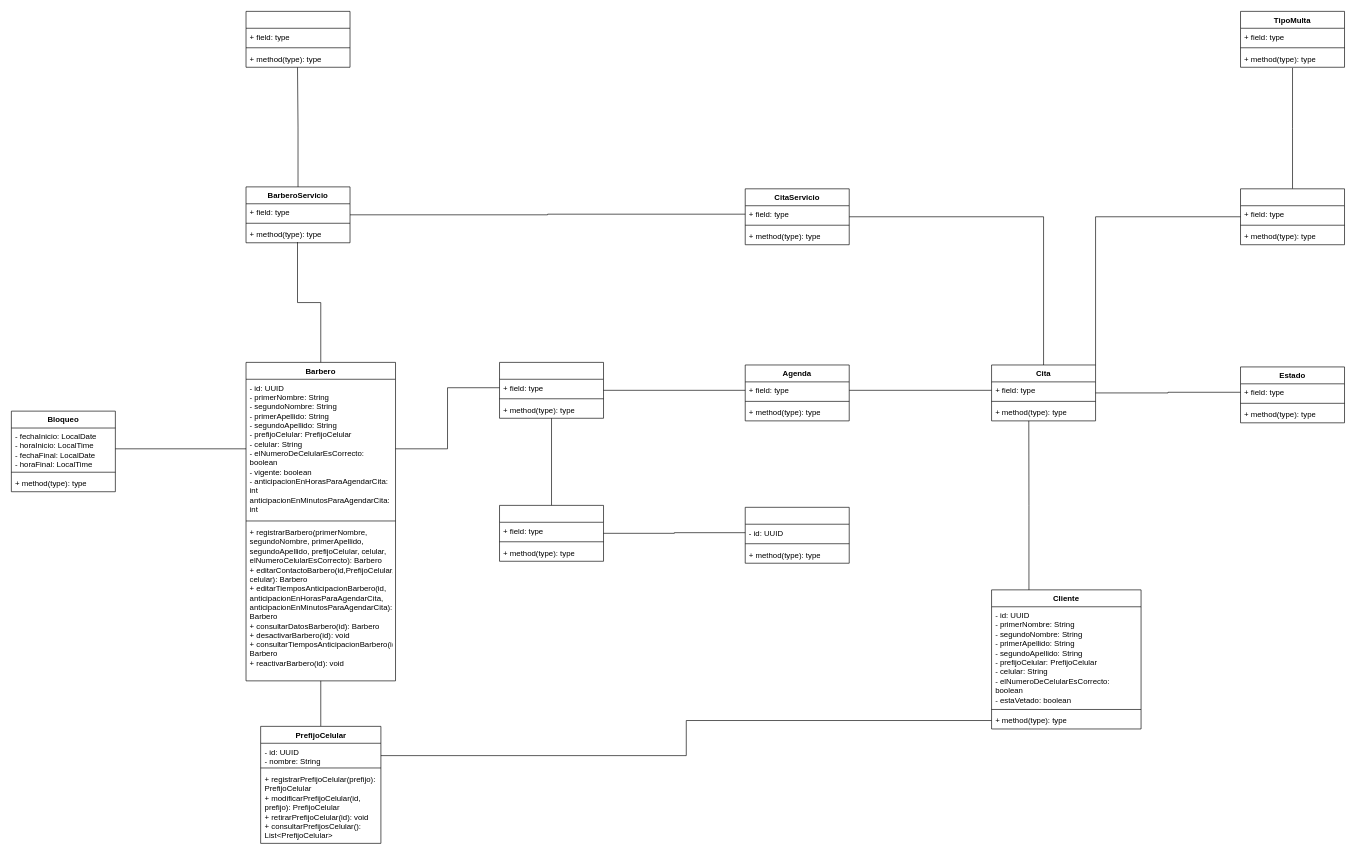
This 1356x857 diagram has some shape labels left out. The shapes that lost their labels are listed below. From the top down, each one's box as (x1, y1, x2, y2) in pixels, then its label:
(245, 11, 350, 67): Servicio
(1240, 188, 1345, 245): Multa
(499, 362, 604, 418): HorarioBarbero
(499, 505, 604, 561): HorarioBarberia
(745, 507, 849, 563): DiaSemana
